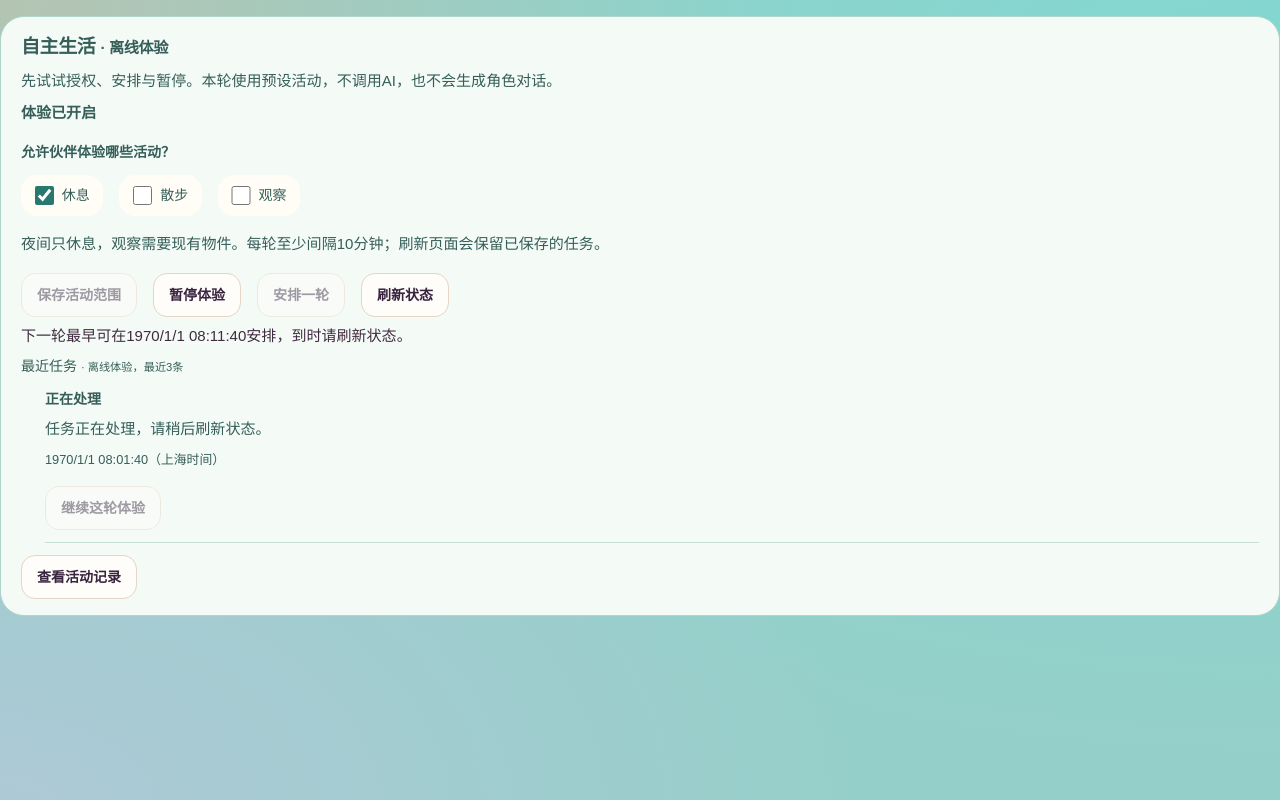
Test: running tasks cannot be resumed until refreshed server time permits it
Expected: the text "正在处理" is shown, [45,391,101,407]
Expected: the button "继续这轮体验" is disabled, [45,486,161,530]
Click the button "刷新状态".
click(405, 295)  # box [361,273,449,317]
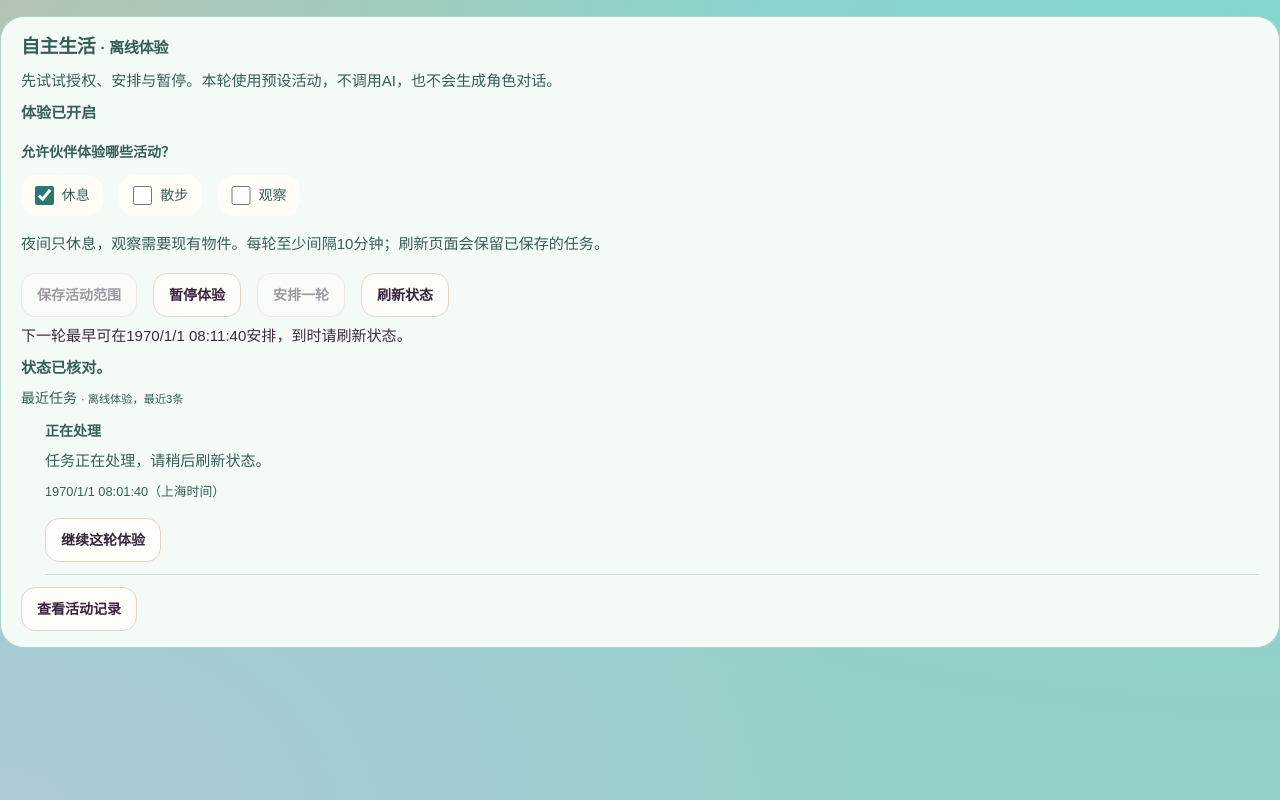
Result: the text "状态已核对。" is shown at [21,359,111,376]
Result: the button "继续这轮体验" is enabled at [45,518,161,562]
